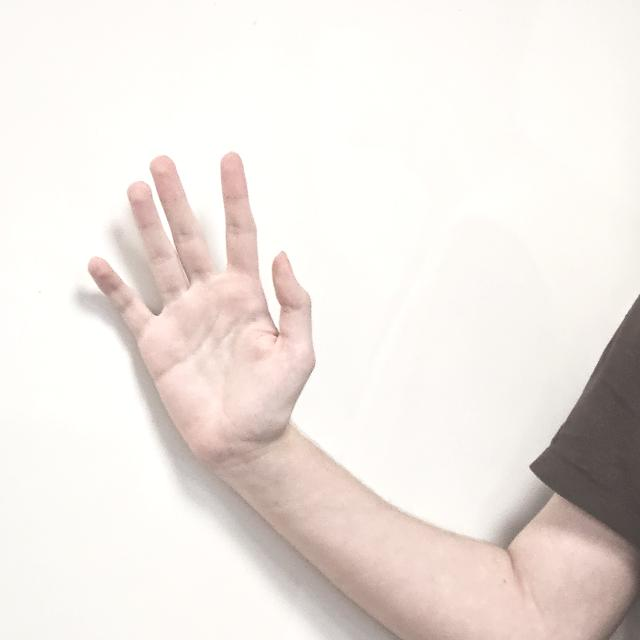X: (81, 152, 316, 472)
